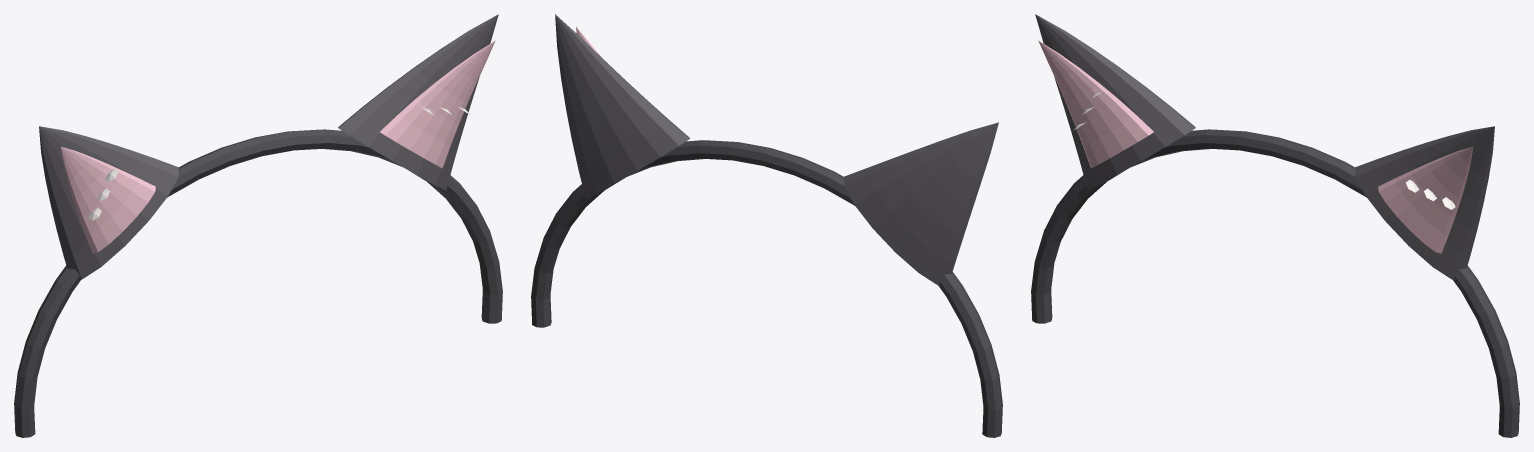
Rendered from catears.glb.
3 renders of one model, left to right at view 1: azimuth 30°, elevation 25°; view 2: azimuth 150°, elevation 25°; view 3: azimuth 330°, elevation 25°, orthographic. The views are drawn at different scales.
Visible parts, largest first — view 1: catears_earr, catears_earl, catears_band; view 2: catears_earr, catears_earl, catears_band; view 3: catears_earl, catears_earr, catears_band.
Part boxes in pixels (x1=…): catears_earr: x1=39, y1=126, x2=178, y2=279; catears_earl: x1=338, y1=14, x2=498, y2=190; catears_band: x1=14, y1=129, x2=502, y2=437; catears_earr: x1=844, y1=122, x2=998, y2=285; catears_earl: x1=555, y1=14, x2=689, y2=198; catears_band: x1=531, y1=140, x2=1002, y2=437; catears_earl: x1=1355, y1=126, x2=1494, y2=279; catears_earr: x1=1035, y1=14, x2=1195, y2=190; catears_band: x1=1031, y1=129, x2=1519, y2=437.
Size of the model in its own units: 0.2425 by 0.1497 by 0.0282.
